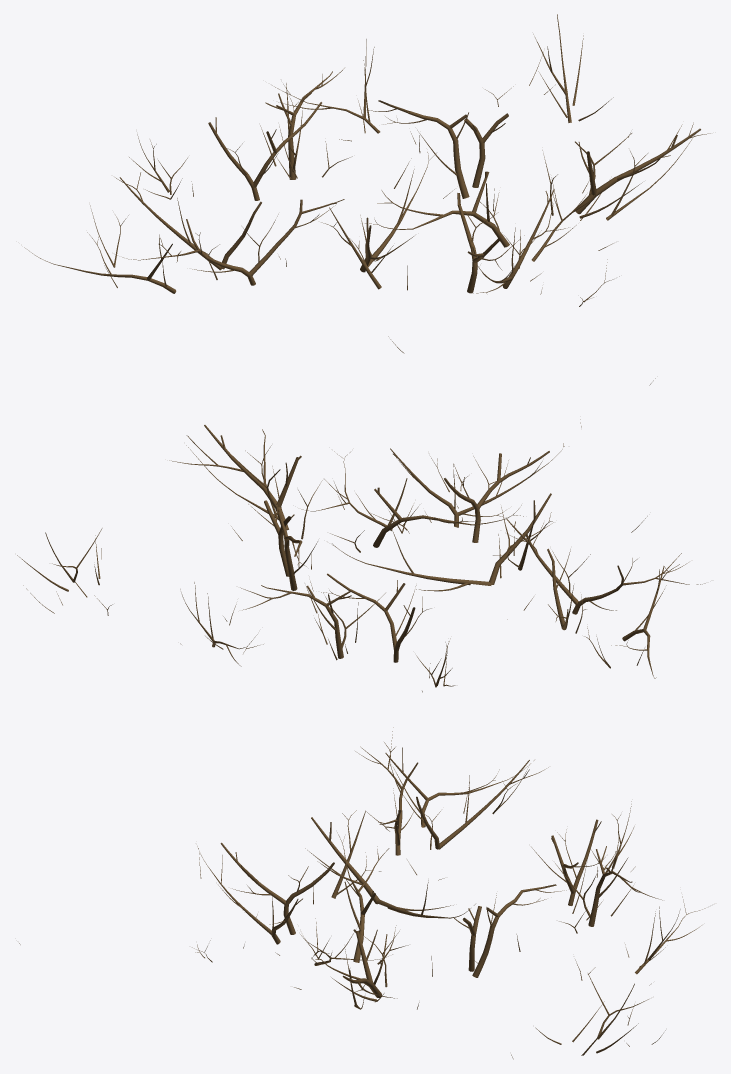
The model's file is Tree_Trunk_Upper.fbx.
3 renders of one model, top to bottom at view 1: azimuth 30°, elevation 25°; view 2: azimuth 150°, elevation 25°; view 3: azimuth 270°, elevation 25°, orthographic. The views are drawn at different scales.
Parts seen in each view (by area): view 1: Trunk_Upper; view 2: Trunk_Upper; view 3: Trunk_Upper.
Part boxes in pixels (x1,y1,x2,y2): Trunk_Upper: (24,14,710,385); Trunk_Upper: (17,419,705,692); Trunk_Upper: (19,727,705,1059).
Size of the model in its own units: 15.87 by 2.14 by 16.56.
